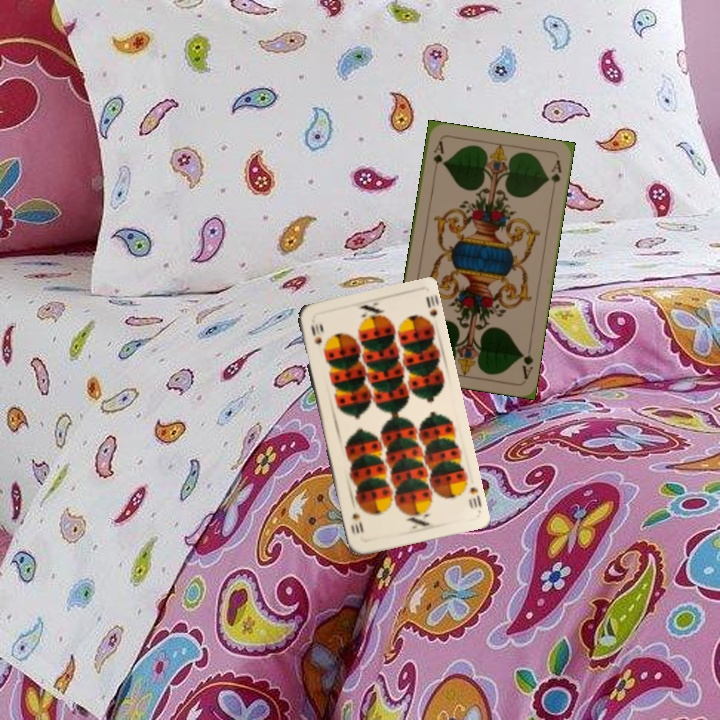GA: (517, 342, 535, 382), (429, 137, 447, 177)
S10: (464, 483, 484, 511), (307, 319, 323, 348)
